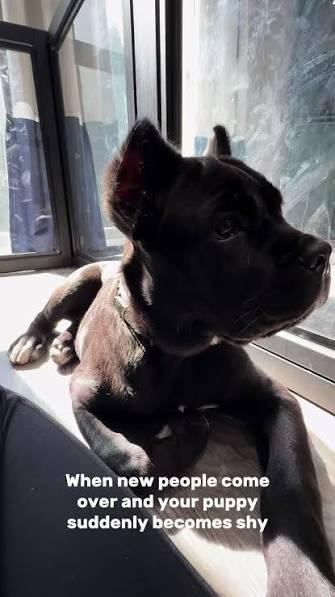puppy-dog: (6, 116, 333, 595)
